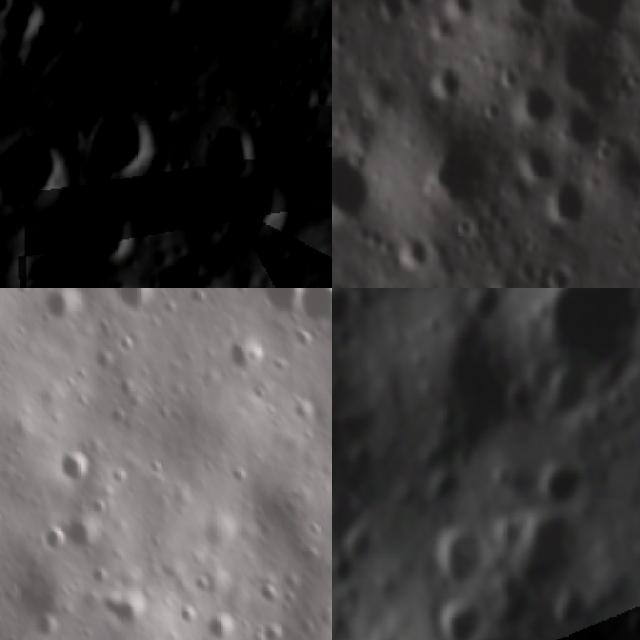crater: (208, 160, 308, 245), (548, 288, 640, 377), (80, 98, 166, 192), (0, 124, 71, 223), (514, 504, 592, 594), (188, 110, 266, 190), (411, 134, 486, 200), (79, 198, 140, 270), (0, 0, 55, 72), (440, 523, 498, 591), (539, 451, 596, 519), (540, 366, 594, 428), (143, 254, 237, 288), (332, 153, 373, 230), (92, 586, 159, 631), (342, 523, 392, 572), (105, 288, 171, 322), (552, 0, 636, 26), (52, 442, 100, 486), (439, 597, 485, 640), (38, 288, 87, 328), (512, 144, 558, 186), (549, 184, 588, 231), (516, 83, 558, 125), (297, 288, 332, 331), (224, 333, 264, 370), (24, 607, 66, 640), (200, 608, 243, 640), (432, 67, 466, 106), (34, 520, 68, 558), (332, 288, 358, 337), (257, 288, 300, 316), (292, 73, 322, 113), (288, 396, 323, 430), (112, 373, 146, 404), (542, 259, 577, 288), (440, 0, 477, 25), (90, 347, 116, 378), (509, 0, 549, 20), (624, 606, 640, 640), (332, 28, 351, 52), (0, 0, 14, 18), (471, 281, 494, 288)
